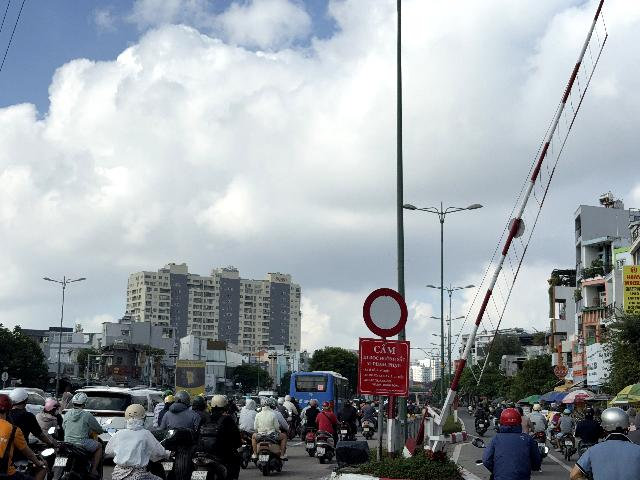duong-cam: (363, 287, 408, 338)
